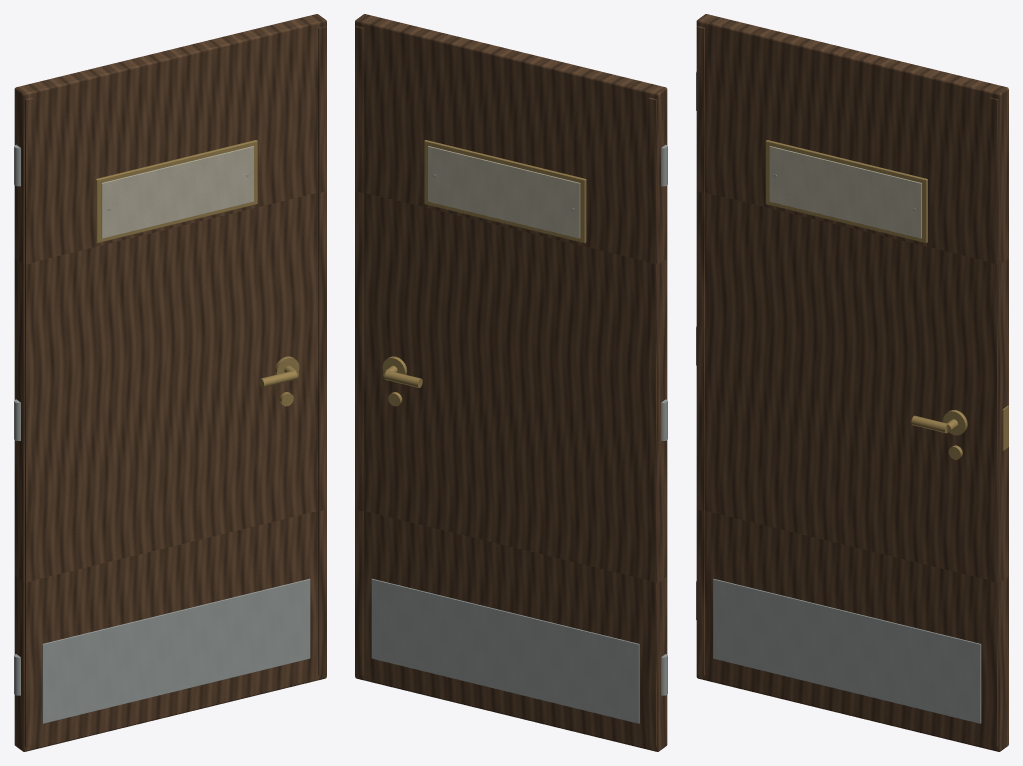
File: SM_Office_Door.fbx
3 renders of one model, left to right at view 1: azimuth 30°, elevation 25°; view 2: azimuth 150°, elevation 25°; view 3: azimuth 330°, elevation 25°, orthographic.
Visible parts, largest first — view 1: SM_Office_Door; view 2: SM_Office_Door; view 3: SM_Office_Door.
Boxes of the visible parts, box(x1,y1,x2,y2) form: SM_Office_Door: box(14, 14, 326, 751); SM_Office_Door: box(355, 14, 667, 751); SM_Office_Door: box(696, 14, 1008, 751).
Bounding box in the file's own units: 1.02 × 0.198 × 2.07.
